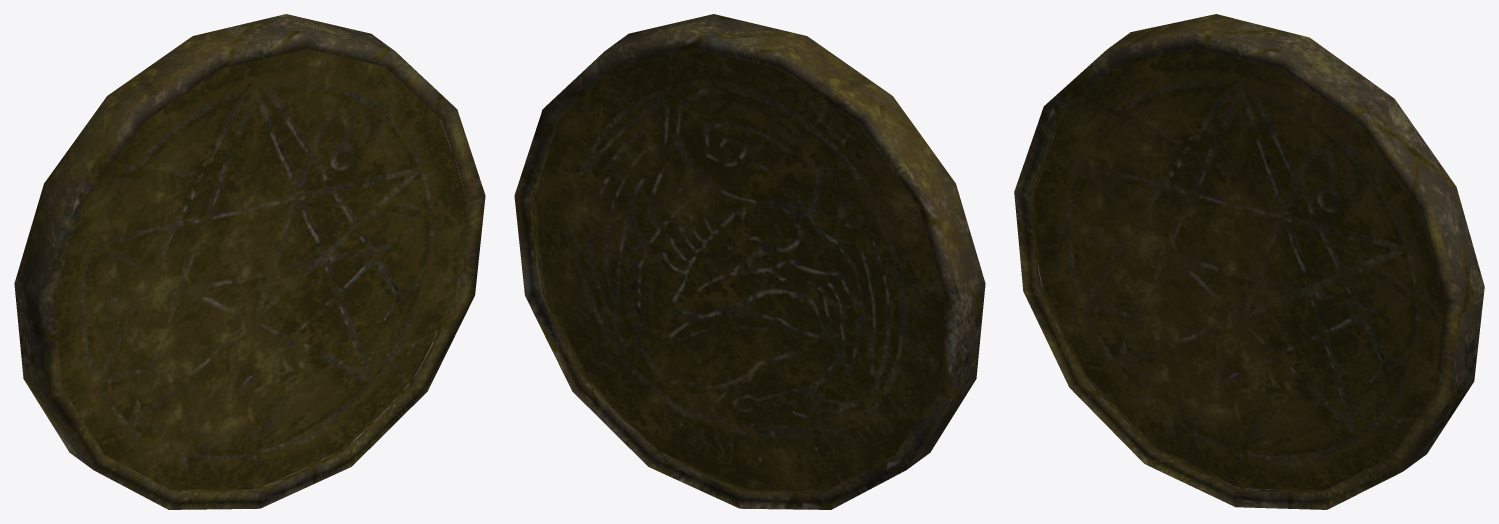
The model's file is coin.glb.
The picture shows the model from 3 angles, left to right: view 1: azimuth 30°, elevation 25°; view 2: azimuth 150°, elevation 25°; view 3: azimuth 330°, elevation 25°; orthographic projection.
Visible parts, largest first — view 1: lp; view 2: lp; view 3: lp.
Part boxes in pixels (x1,y1,x2,y2): lp: (14, 14, 485, 509); lp: (514, 14, 985, 509); lp: (1014, 14, 1484, 509).
Size of the model in its own units: 5.76 by 5.73 by 0.5357.
Materials: 1 (1 with a texture image).
